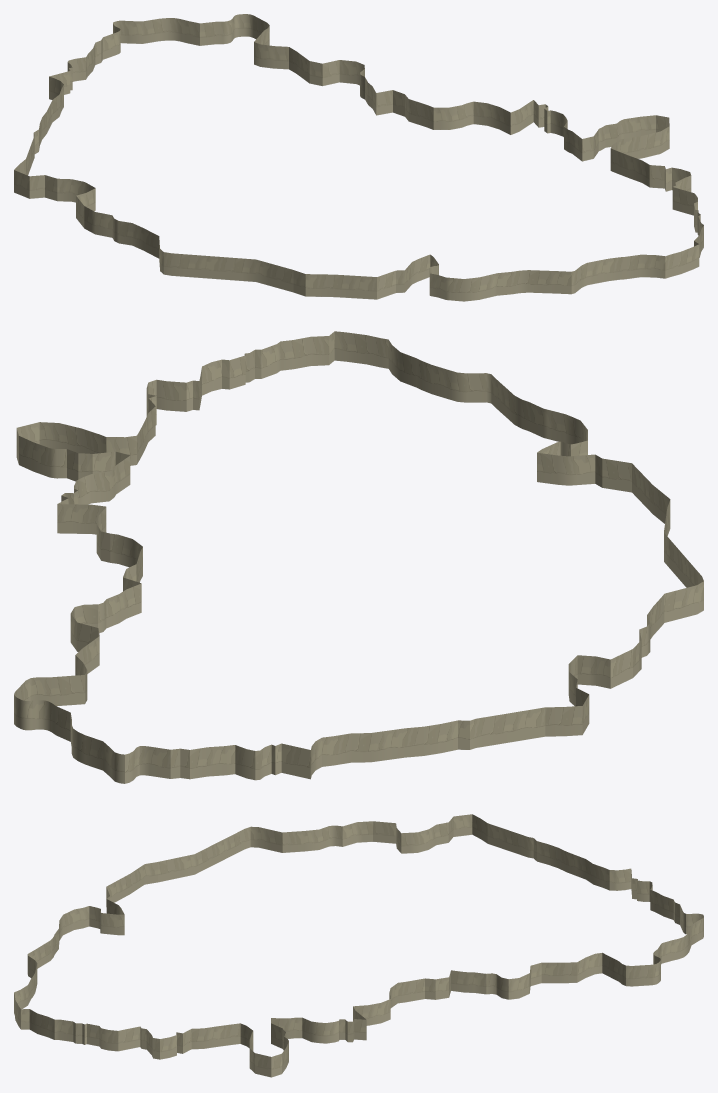
Rendered from Mesh_Home_Terrain_Rock.fbx.
3 views of the same model, one above another, from view 1: azimuth 30°, elevation 25°; view 2: azimuth 150°, elevation 25°; view 3: azimuth 270°, elevation 25° (orthographic). The views are drawn at different scales.
Visible parts, largest first — view 1: Mesh_Home_Terrain_Rock; view 2: Mesh_Home_Terrain_Rock; view 3: Mesh_Home_Terrain_Rock.
Part boxes in pixels (x1,y1,x2,y2): Mesh_Home_Terrain_Rock: (14,14,703,301); Mesh_Home_Terrain_Rock: (14,331,703,783); Mesh_Home_Terrain_Rock: (14,814,703,1077).
Bounding box in the file's own units: 4436 × 186 × 5327.
